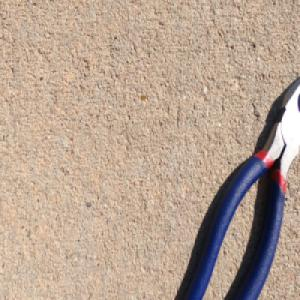Pliers: (181, 76, 300, 300)
